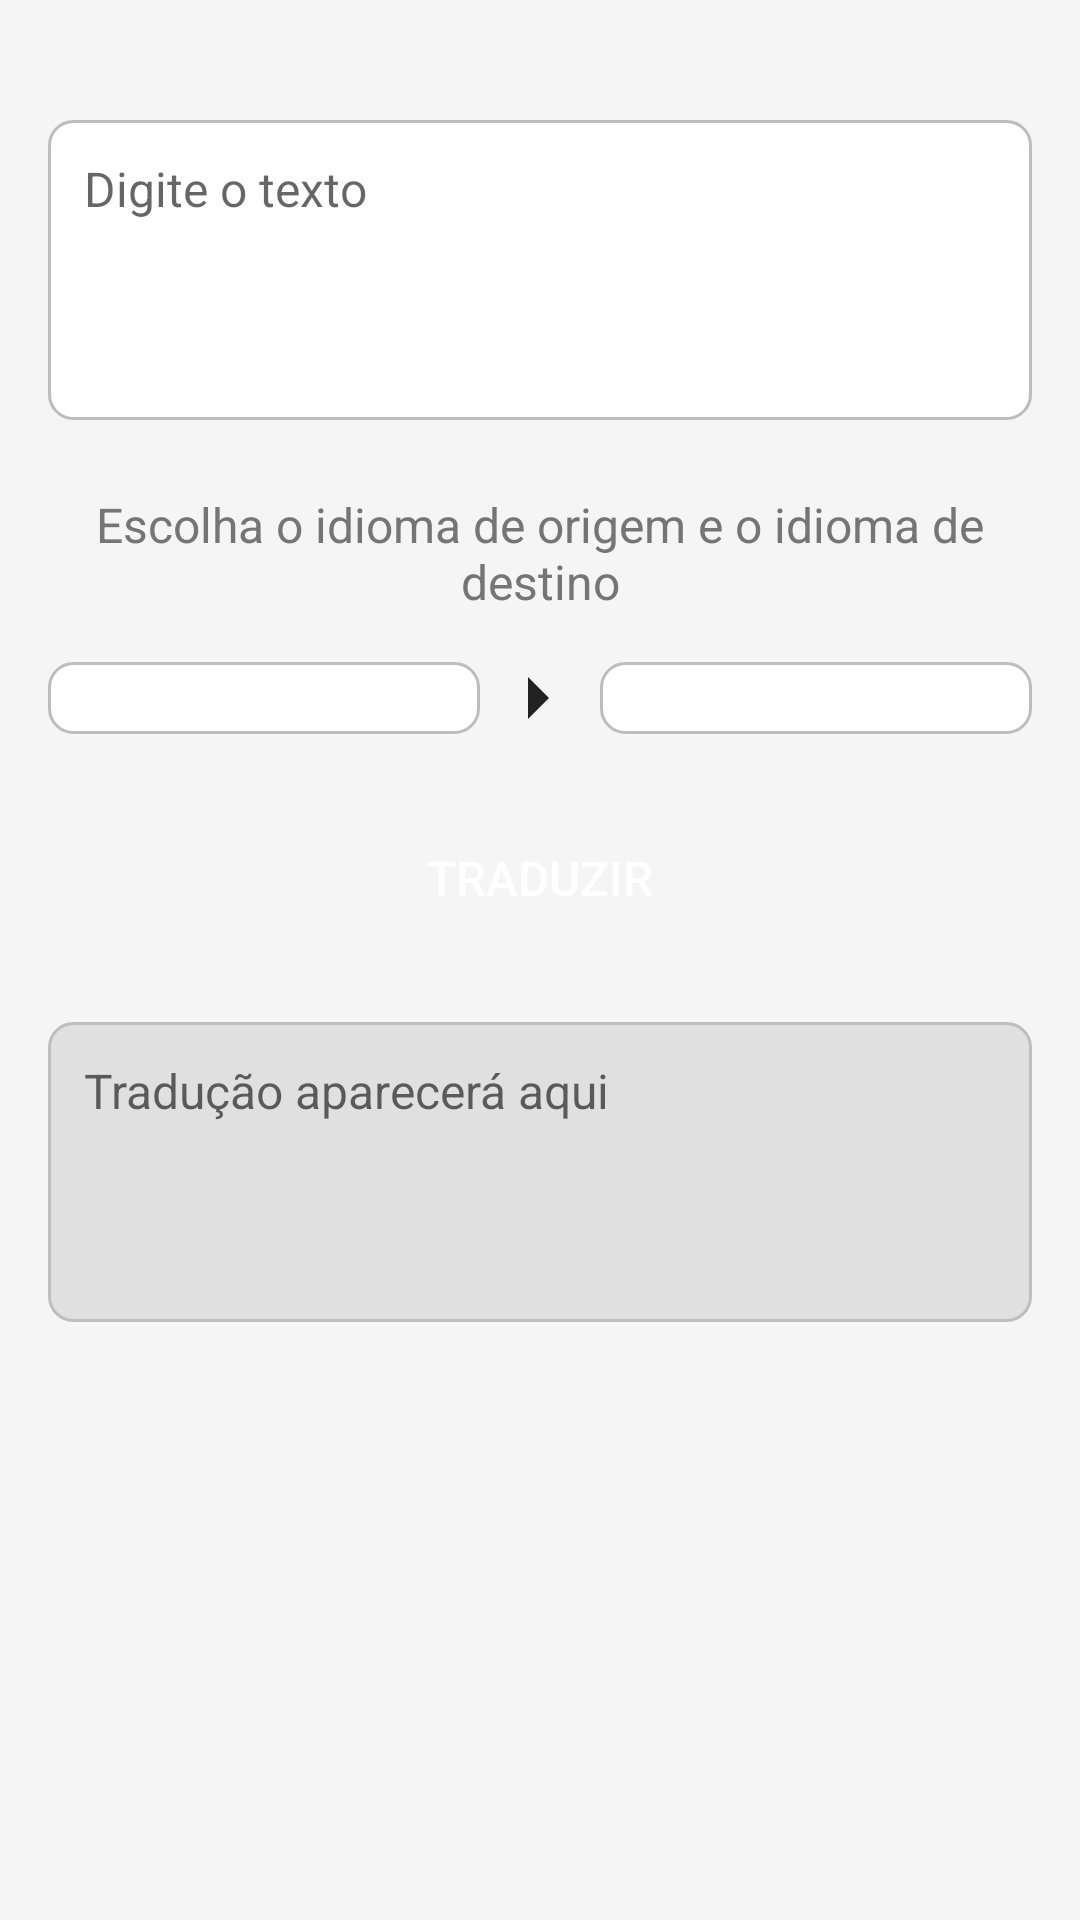

Screen size 1080*1920. Icon name, then its box in pixels as Rect(x1, y1, x2, y2):
De - Para: Rect(528, 677, 549, 719)
